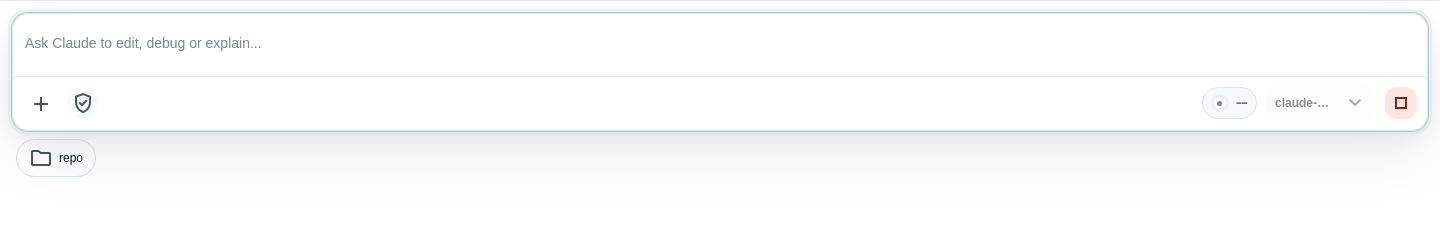
Test case: ChatInput file mentions › edits and deletes queued prompts without sending them
Type "first queued draft" into the text box at x=720, y=44, box [25,26,1415,61]
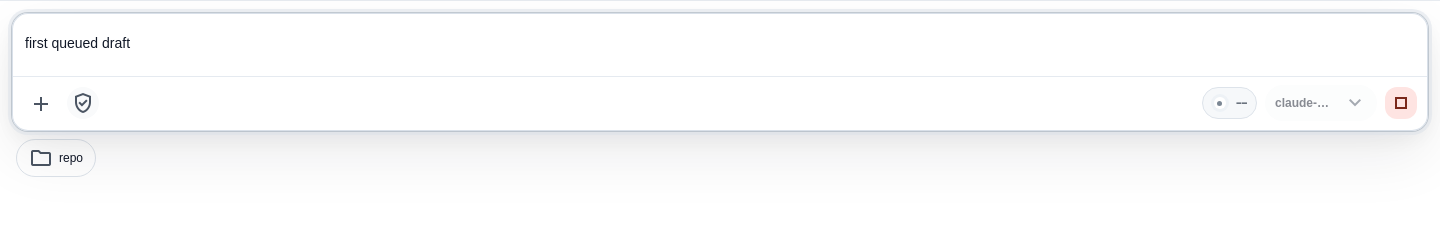
Press Enter in the text box, box [25,26,1415,61]
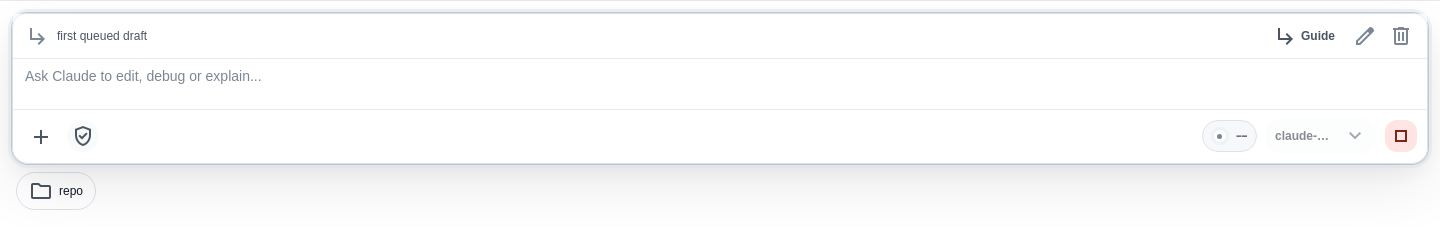
Click the button named "Edit queued message" at x=1365, y=36, box [1351,22,1379,50]
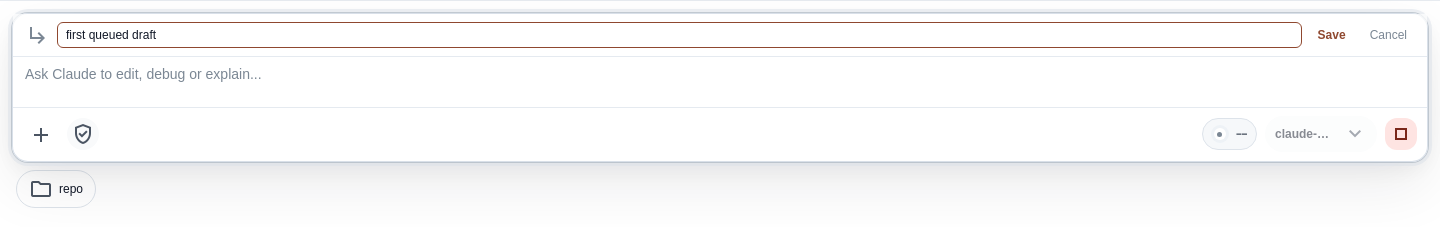
Replace the text in the field named "Queued message text" with "edited queued draft" at x=679, y=35, box [57,22,1302,48]
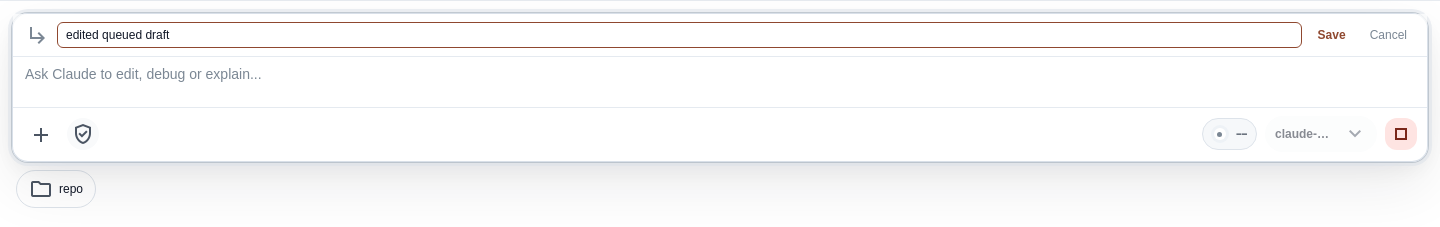
Click the button "Save" at x=1332, y=35, box [1310,23,1354,47]
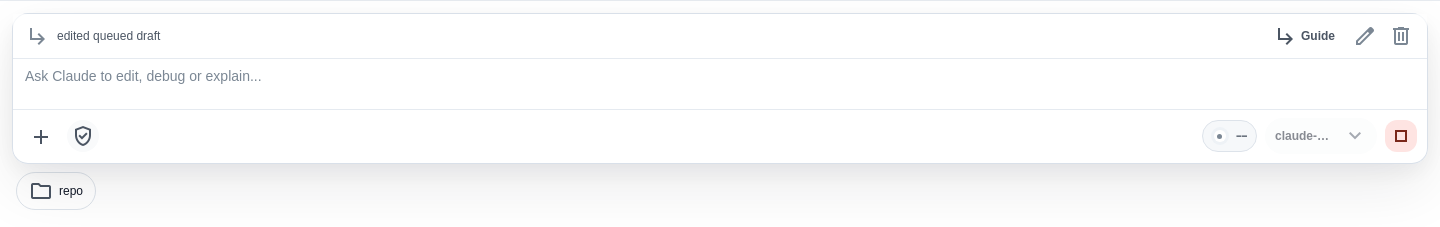
expect the element with test id "pending-user-message" shows "edited queued draft": met, box [57,29,160,43]
Click the button named "Delete queued message" at x=1401, y=36, box [1387,22,1415,50]
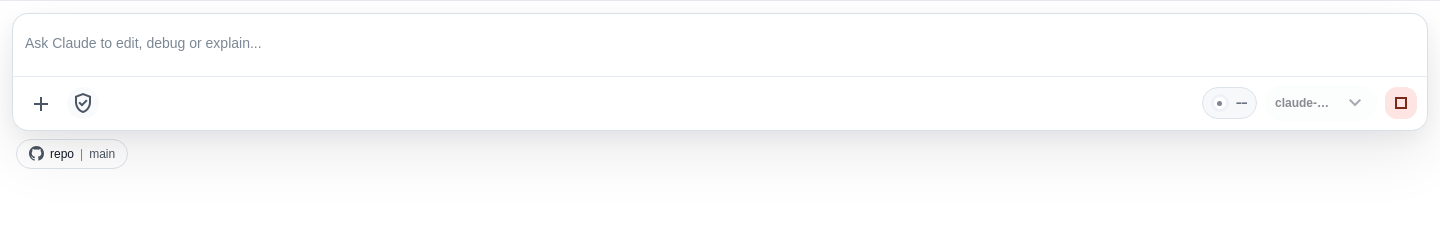
expect the element with test id "pending-user-message" is gone: met
